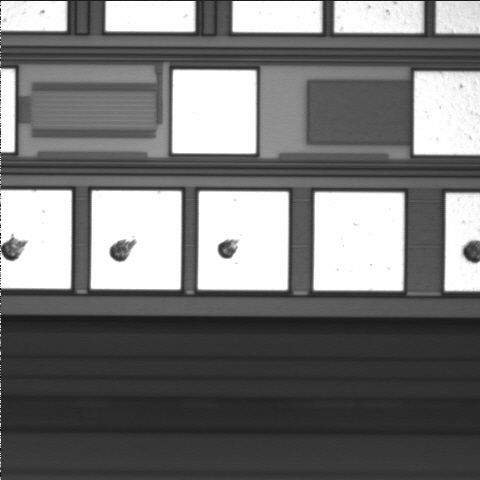pad: (198, 191, 288, 290), (314, 192, 404, 291), (91, 191, 181, 289), (172, 70, 256, 154)
